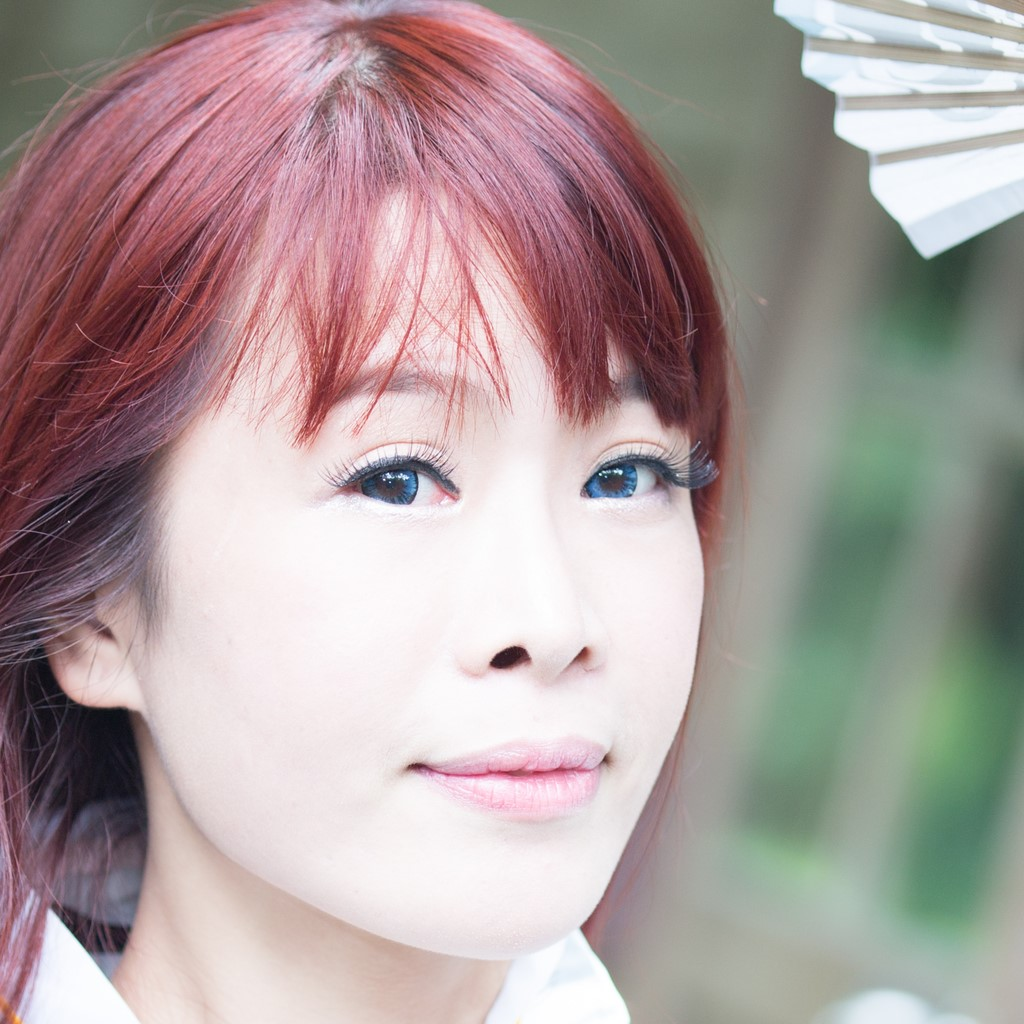sin_mascara: (116, 175, 708, 968)
